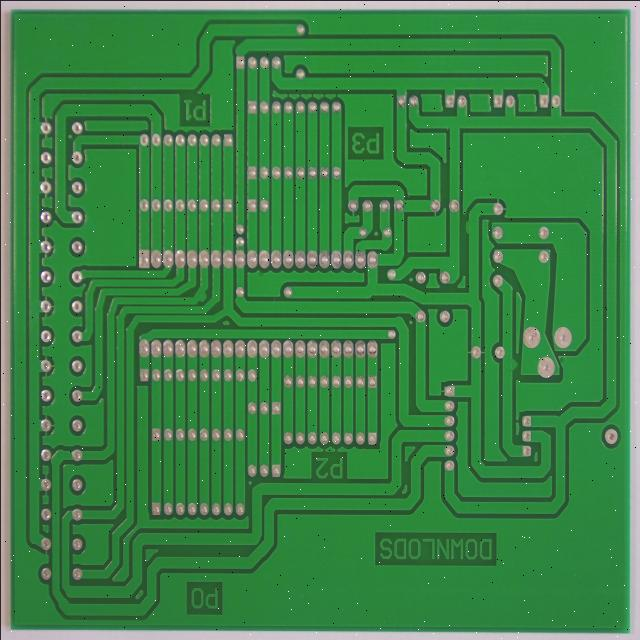spur: (567, 424, 584, 451), (217, 340, 235, 365), (518, 258, 532, 286)
